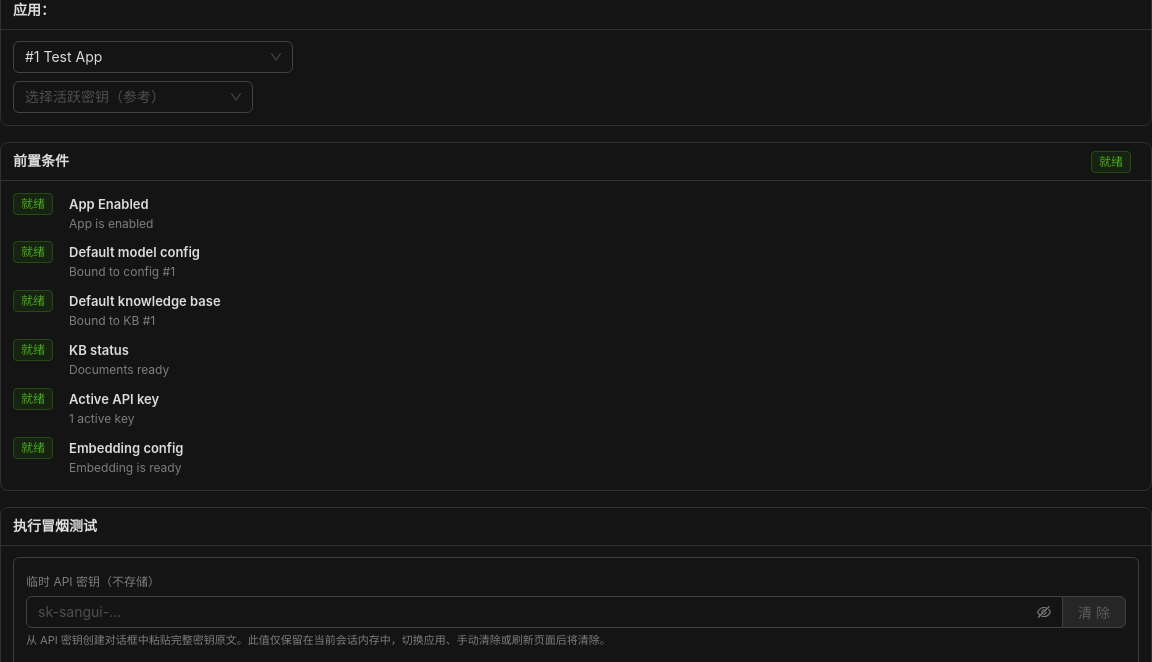
Test: SmokeTestPage › successful non-streaming smoke evidence › renders response metadata and content length, not answer text
Expected: the text "前置条件" is shown, [13,152,69,169]
Type "sk-sangui-test-key-12345" into the password field with placeholder "sk-sangui-..." at (536, 612), box [38,601,1033,623]
(page scrolled)
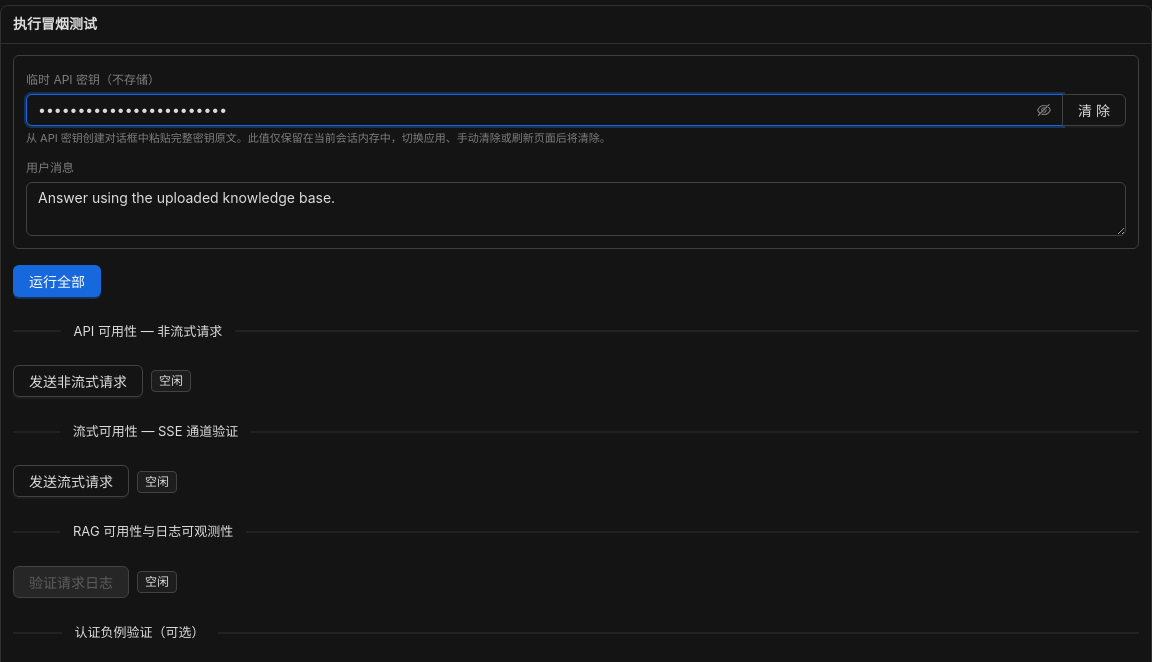
Click the button "发送非流式请求" at (78, 381), box [13,365,143,397]
(page scrolled)
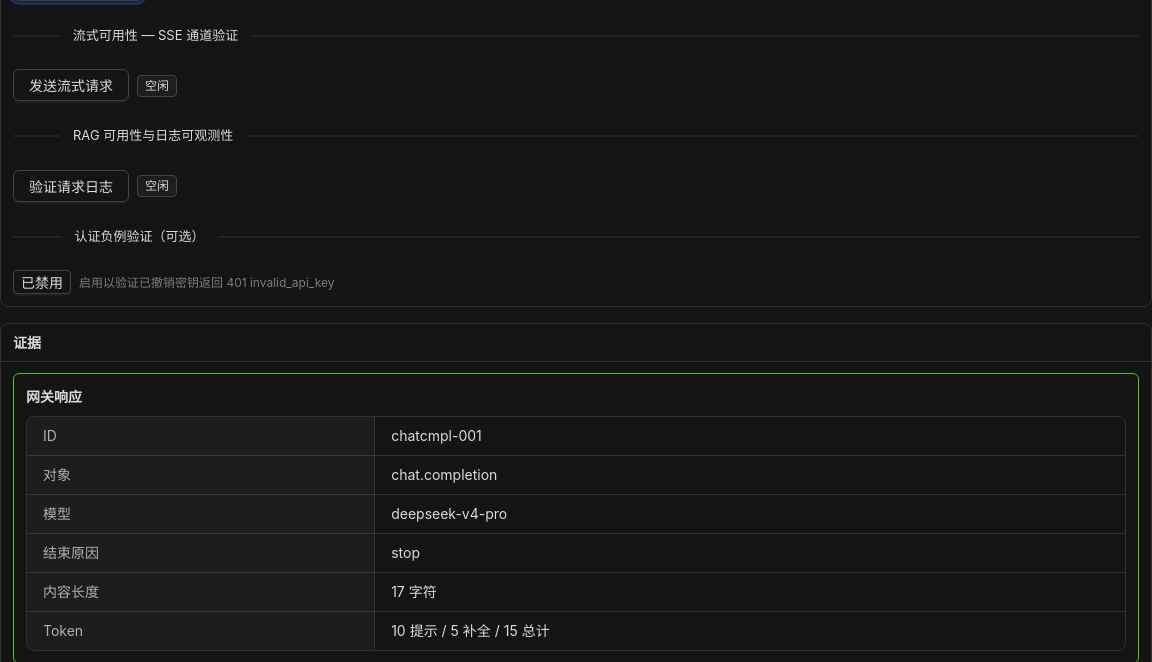
Expected: the text "chatcmpl-001" is shown, [391,427,482,444]
Expected: the text "deepseek-v4-pro" is shown, [391,505,507,522]
Expected: the text "stop" is shown, [391,544,420,561]
